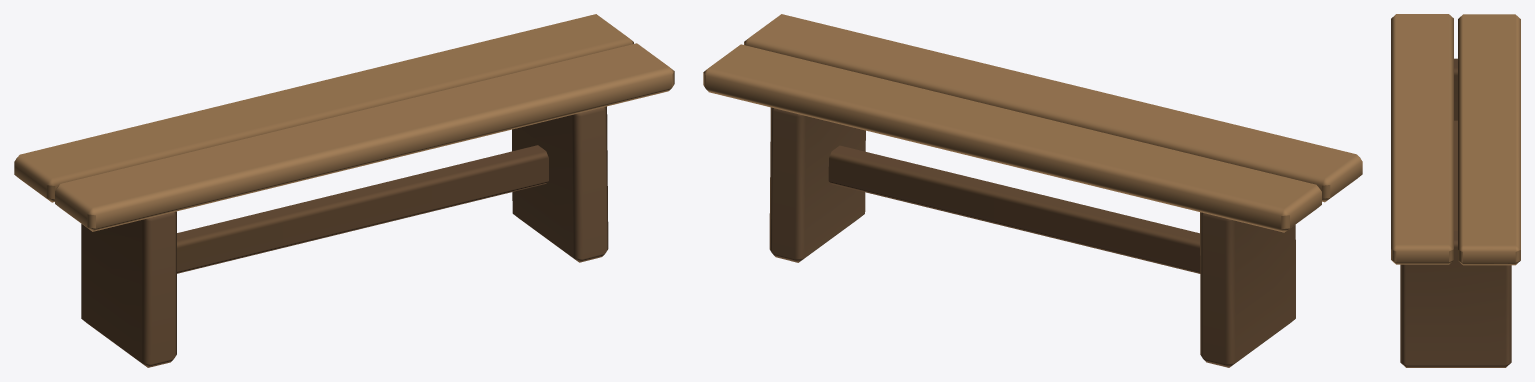
File: yard_bench-bEz4pzNd.glb
3 renders of one model, left to right at view 1: azimuth 30°, elevation 25°; view 2: azimuth 150°, elevation 25°; view 3: azimuth 270°, elevation 25°, orthographic. The views are drawn at different scales.
Parts seen in each view (by area): view 1: yard_bench; view 2: yard_bench; view 3: yard_bench.
Boxes of the visible parts, bbox=[...] form: yard_bench: bbox=[14, 14, 674, 367]; yard_bench: bbox=[703, 14, 1362, 367]; yard_bench: bbox=[1391, 14, 1520, 367].
Size of the model in its own units: 1.5 by 0.4399 by 0.3499.
